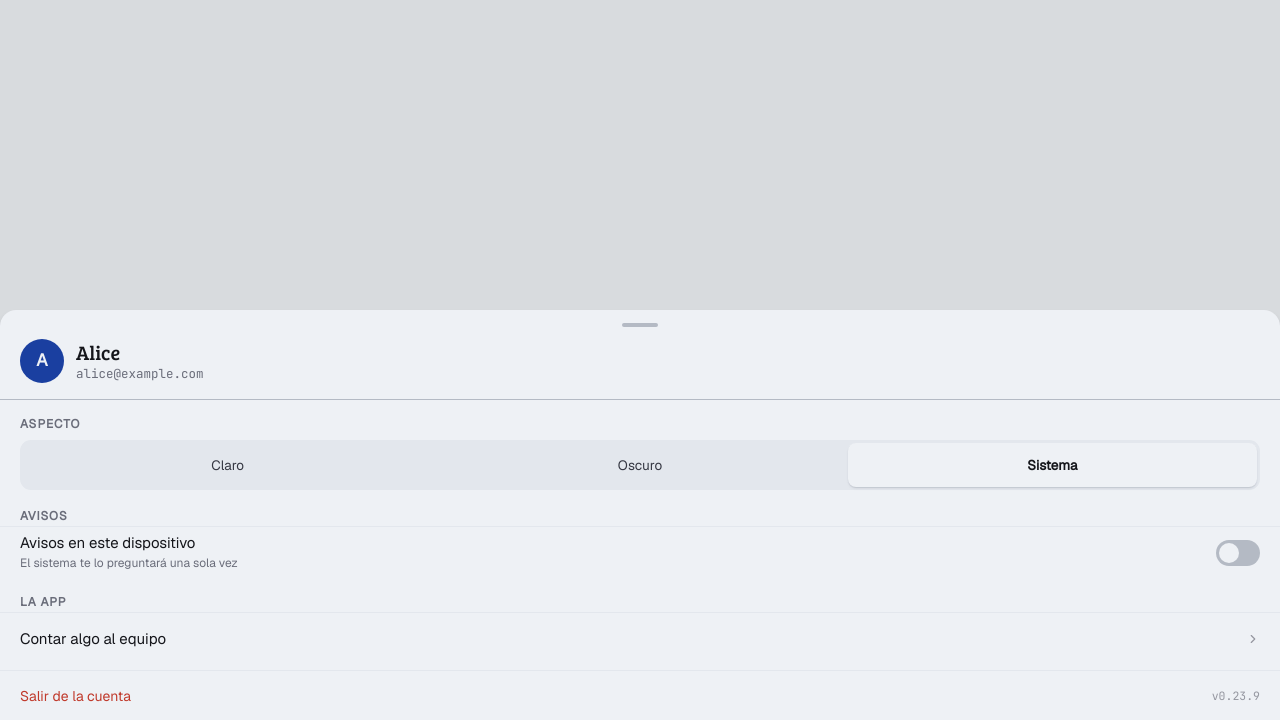
Scenario: SettingsSheet — Avisos › switches to the blocked message when the user denies the prompt
Click the switch.
click(108, 543)  # box x1=0 y1=526 x2=1279 y2=578
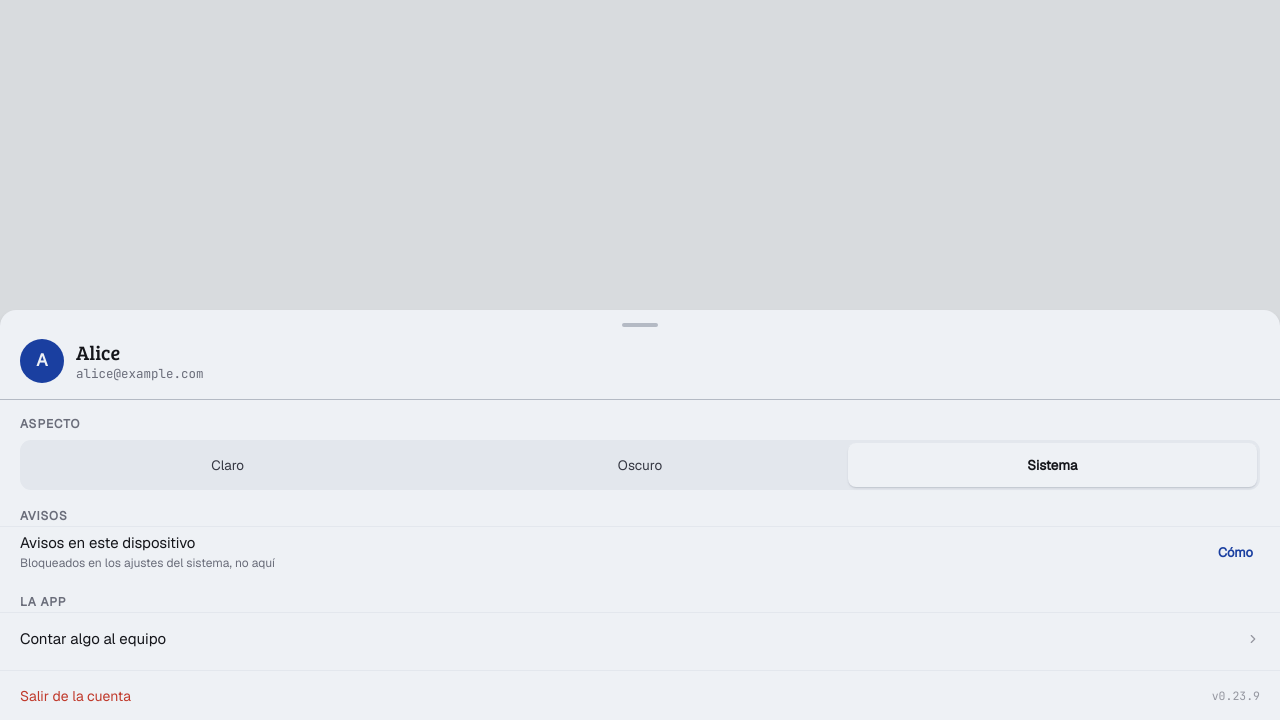
Now the text "Bloqueados en los ajustes del sistema, no aquí" is shown, box x1=20 y1=555 x2=275 y2=571
Now the switch is gone
